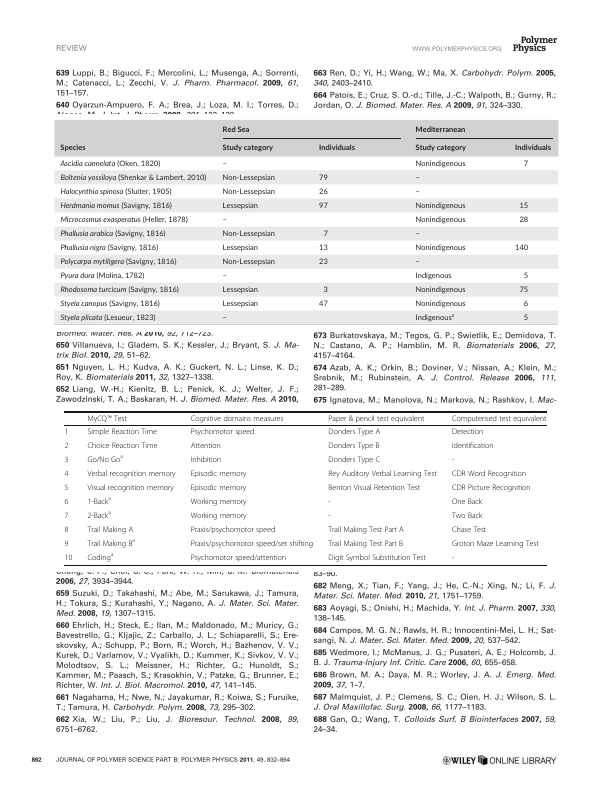borderless: (52, 119, 559, 326), (64, 410, 547, 565)
cell: (59, 172, 206, 184), (59, 214, 188, 226), (59, 284, 179, 296), (59, 256, 177, 268), (59, 186, 172, 198), (59, 200, 172, 212), (59, 228, 166, 240), (190, 539, 314, 549), (59, 158, 160, 170), (59, 298, 160, 310), (59, 242, 158, 254), (59, 312, 156, 324), (327, 469, 438, 479), (59, 270, 144, 282), (327, 553, 427, 563), (190, 553, 287, 563), (327, 483, 421, 493), (86, 469, 176, 479), (86, 483, 175, 493), (451, 539, 540, 549), (327, 414, 425, 423), (451, 414, 547, 423), (190, 525, 276, 535), (190, 414, 284, 423), (451, 483, 532, 493), (327, 525, 405, 535), (327, 539, 404, 549), (451, 469, 527, 479), (86, 427, 158, 437), (86, 441, 158, 451), (414, 123, 465, 136), (190, 427, 255, 437), (221, 172, 275, 184), (221, 186, 275, 198), (221, 228, 275, 240), (221, 256, 275, 268), (221, 142, 273, 154), (414, 142, 466, 154), (414, 158, 466, 170), (414, 200, 466, 212), (414, 214, 466, 226), (414, 242, 466, 254), (414, 284, 466, 296), (414, 298, 466, 310), (86, 537, 136, 549), (190, 497, 248, 507), (190, 511, 248, 521), (190, 469, 247, 479), (190, 483, 247, 493), (327, 427, 381, 437), (327, 455, 381, 465), (327, 441, 380, 451), (414, 311, 454, 324), (86, 525, 134, 535), (86, 453, 124, 465), (414, 270, 452, 282), (221, 200, 258, 212), (221, 242, 258, 254), (221, 284, 258, 296), (221, 298, 258, 310), (451, 441, 494, 451), (86, 414, 128, 423), (221, 123, 250, 136), (451, 525, 487, 535), (86, 551, 114, 563), (451, 427, 484, 437), (59, 142, 86, 154), (190, 441, 222, 451), (190, 455, 222, 465), (451, 497, 483, 507), (451, 511, 483, 521), (86, 495, 112, 507), (86, 509, 112, 521), (317, 144, 355, 152), (513, 144, 551, 152), (317, 172, 328, 184), (317, 186, 328, 198), (317, 200, 328, 212), (513, 245, 528, 252), (64, 553, 73, 563), (317, 245, 328, 252), (317, 259, 328, 266), (317, 301, 328, 308), (522, 298, 528, 310), (518, 203, 528, 210), (518, 217, 528, 224), (518, 287, 528, 294), (63, 427, 69, 437), (63, 441, 69, 451), (63, 455, 69, 465), (64, 469, 69, 479), (64, 483, 69, 493), (64, 497, 69, 507), (327, 497, 332, 507), (64, 511, 69, 521), (327, 511, 332, 521), (64, 525, 69, 535), (64, 539, 69, 549), (221, 161, 227, 168), (522, 161, 528, 168), (414, 175, 420, 182), (414, 189, 420, 196), (221, 217, 227, 224), (322, 231, 328, 238), (414, 231, 420, 238), (414, 259, 420, 266), (221, 273, 227, 280), (522, 273, 528, 280), (322, 287, 328, 294), (221, 315, 227, 322), (522, 315, 528, 322), (451, 455, 455, 465), (451, 553, 455, 563)
